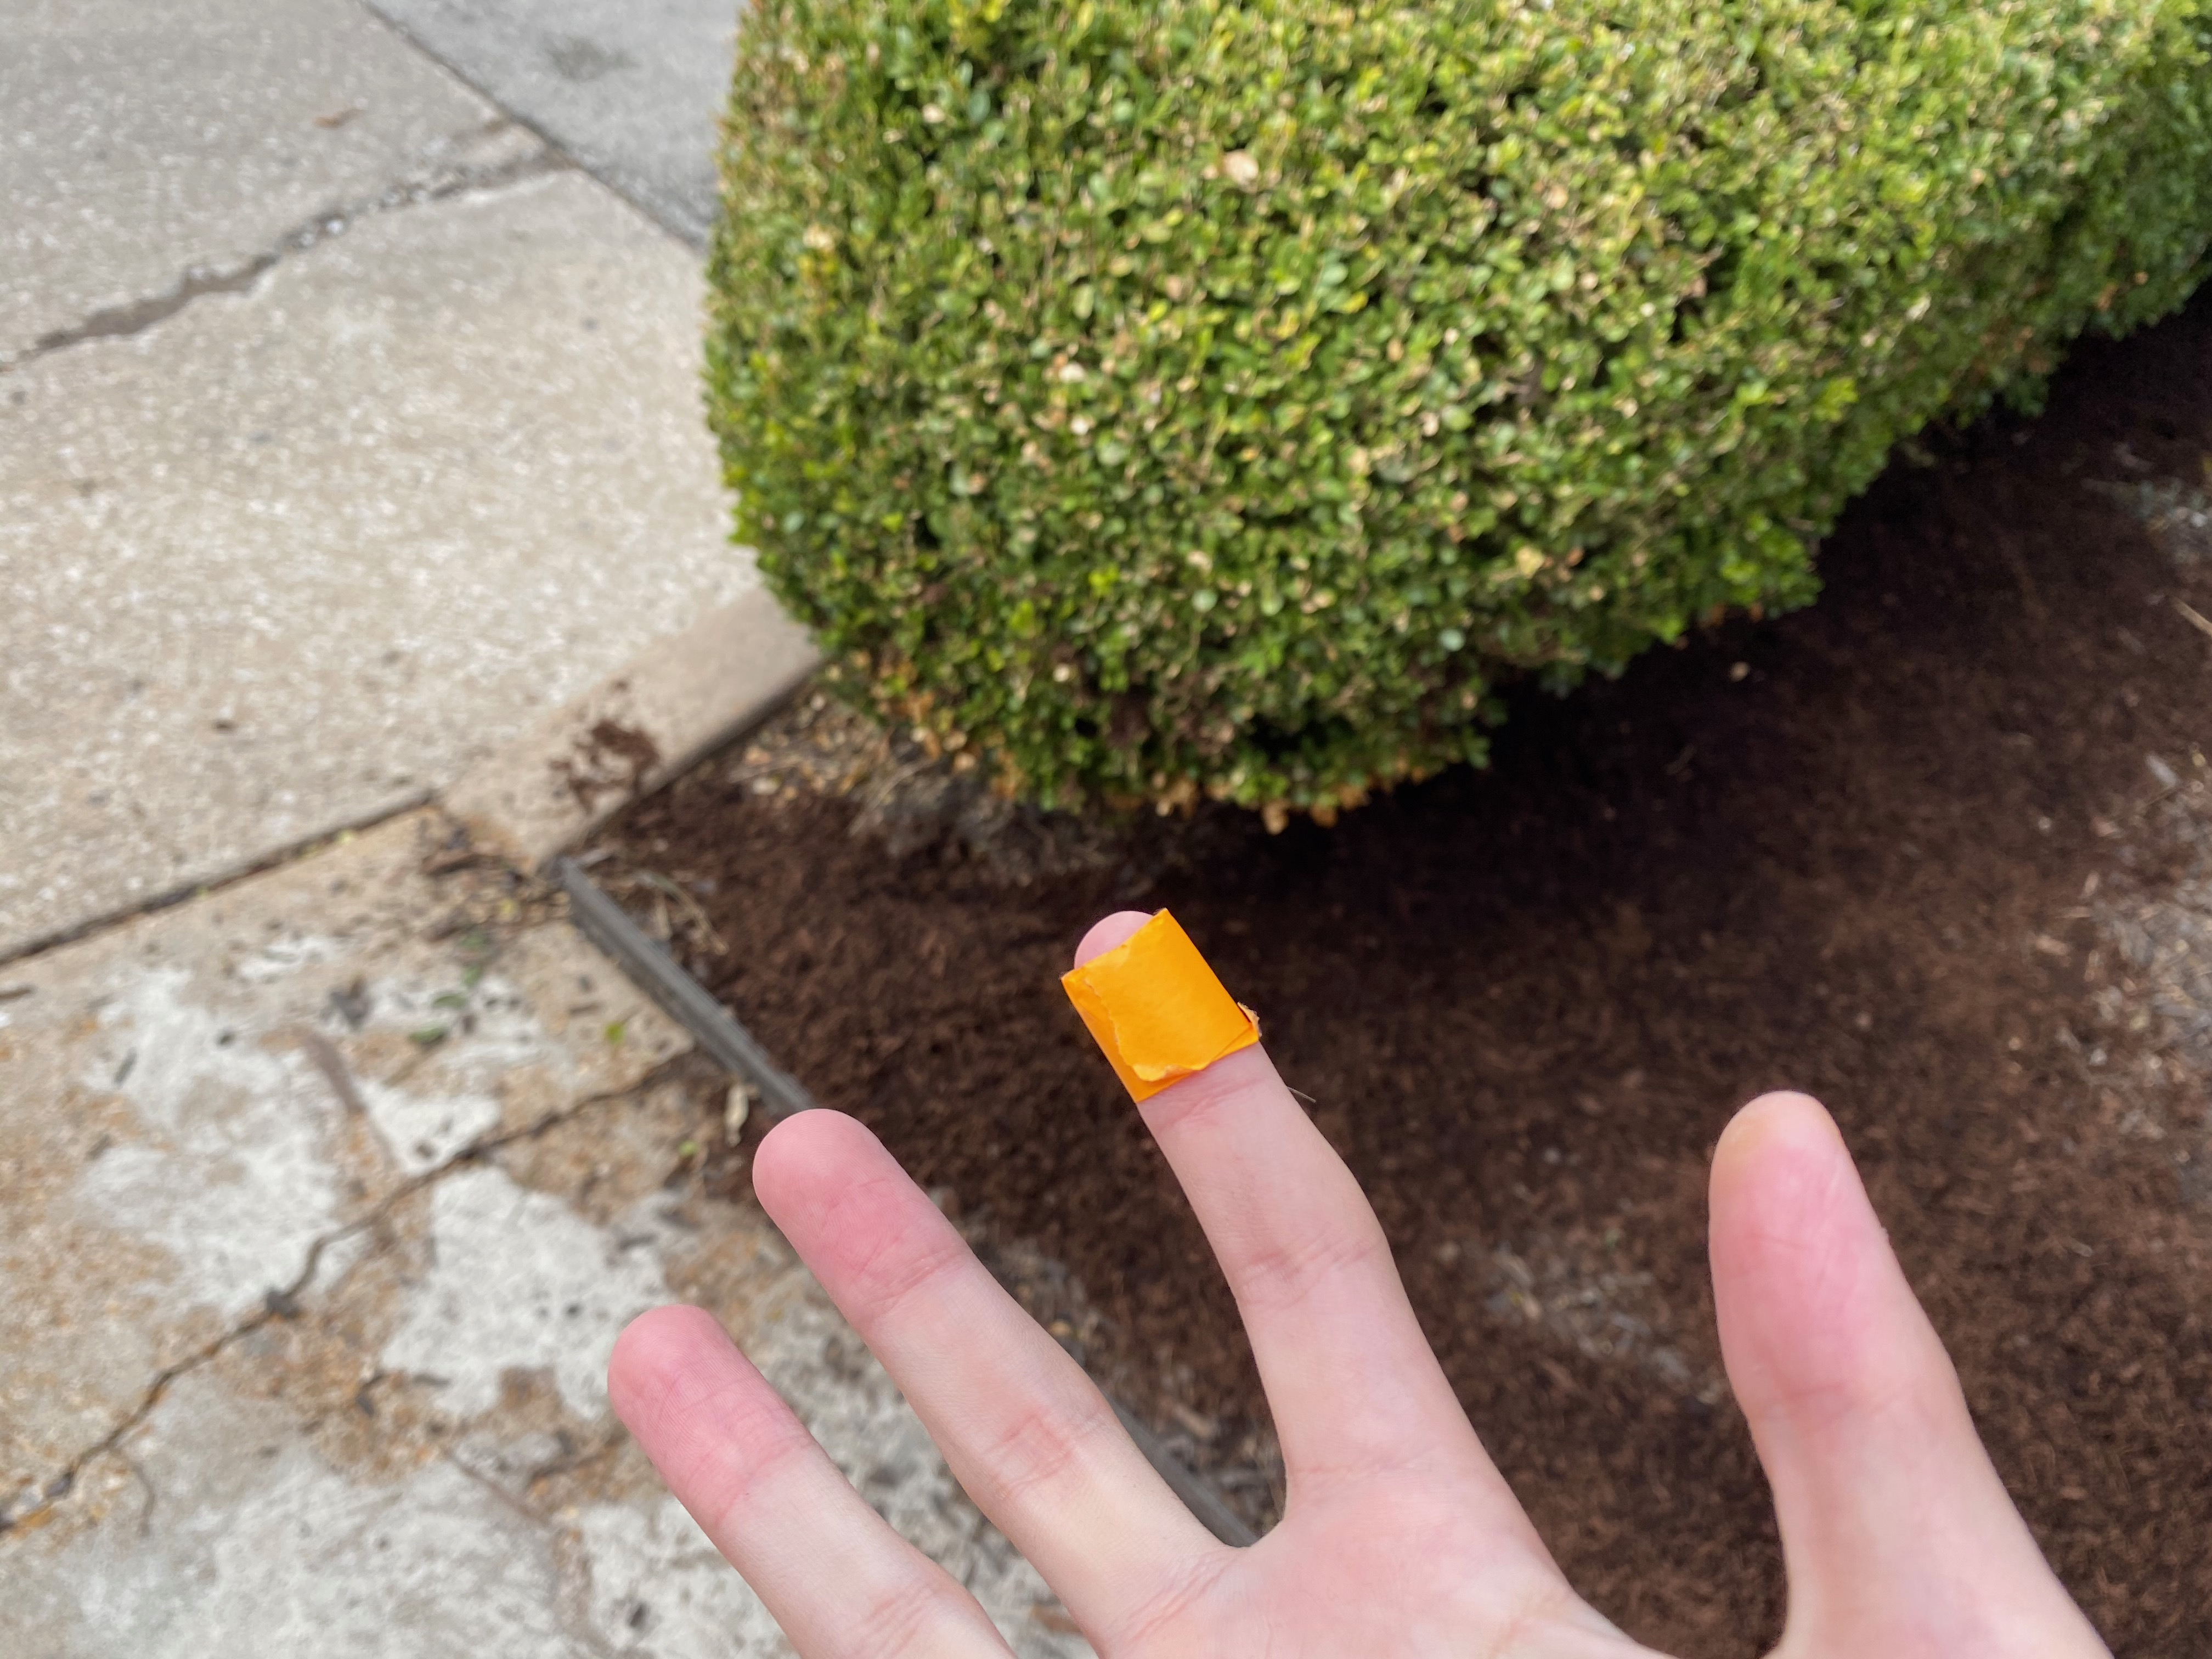fingertip: (1042, 890, 1282, 1117)
